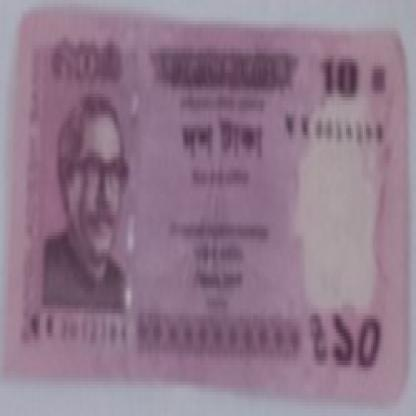Ten Taka: (335, 288, 386, 381), (48, 21, 110, 90), (318, 48, 368, 100)
